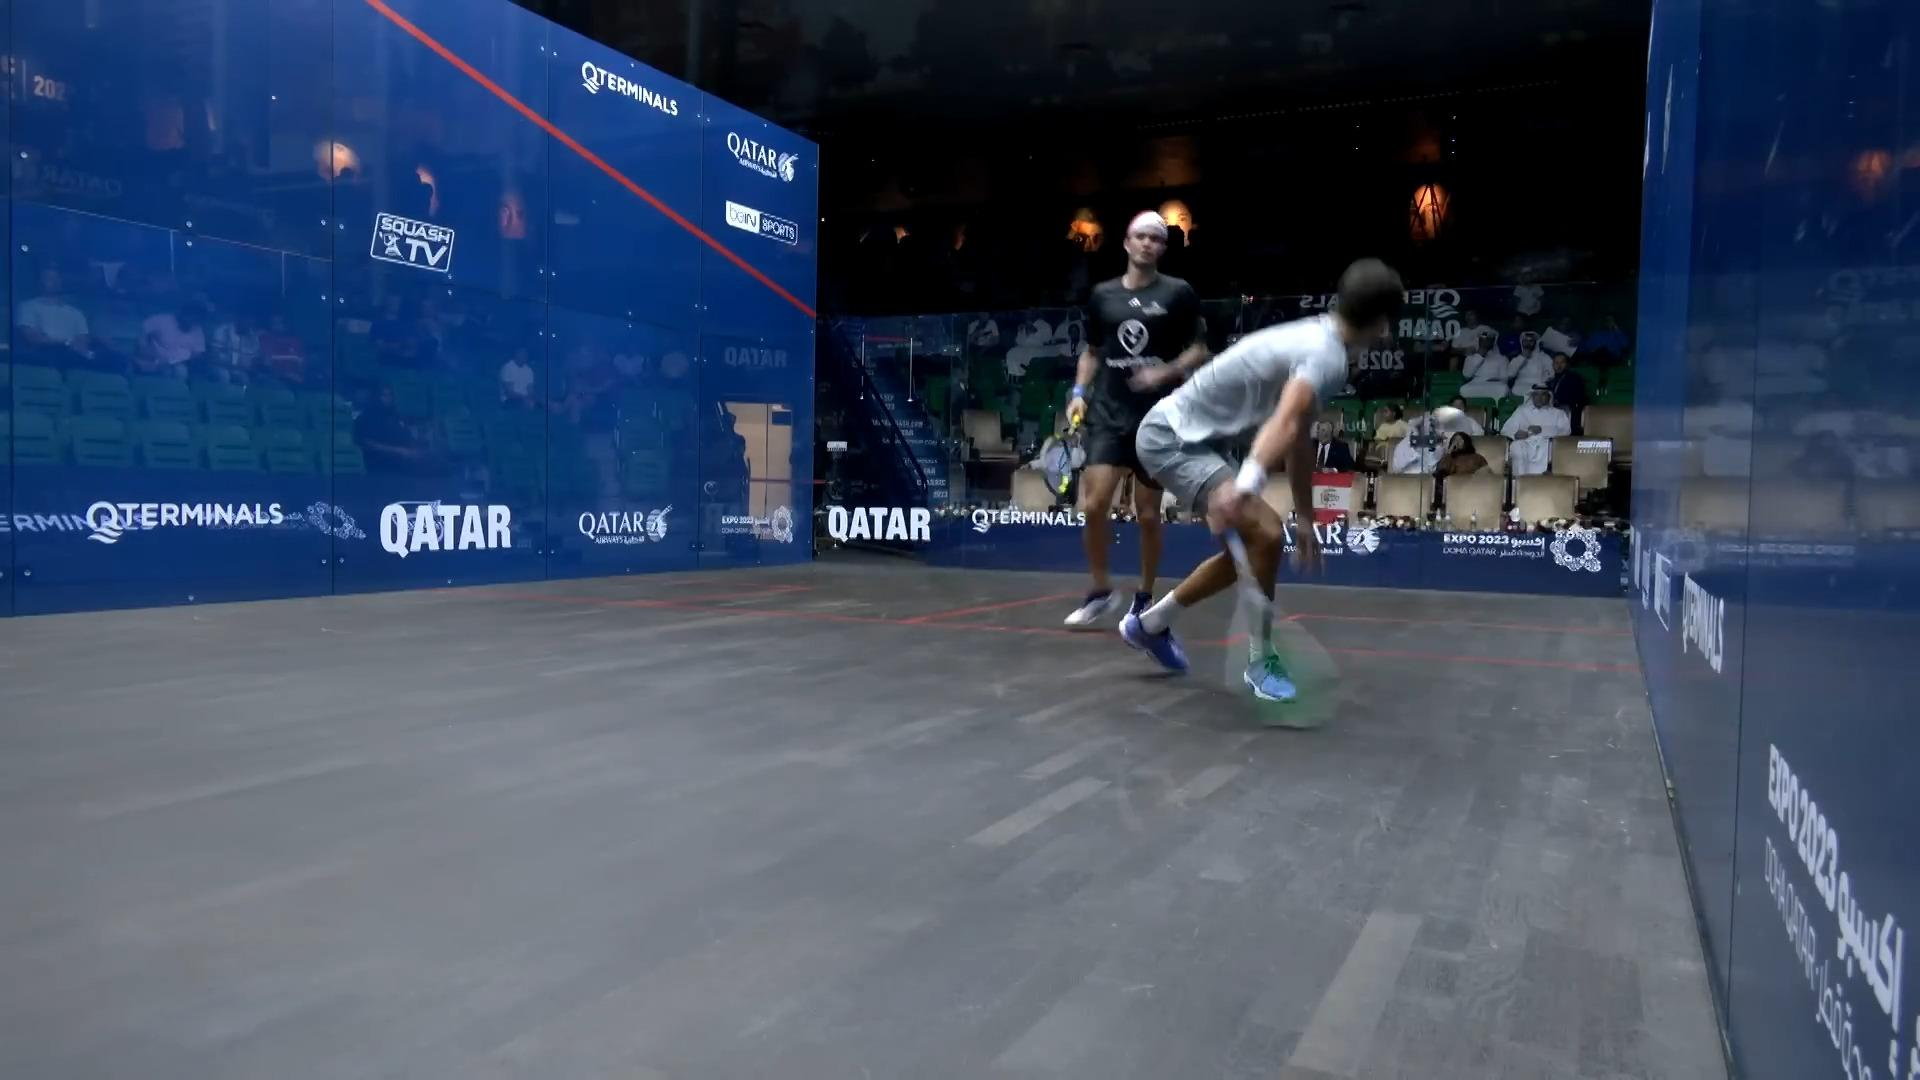Racket: (1034, 411, 1088, 495)
